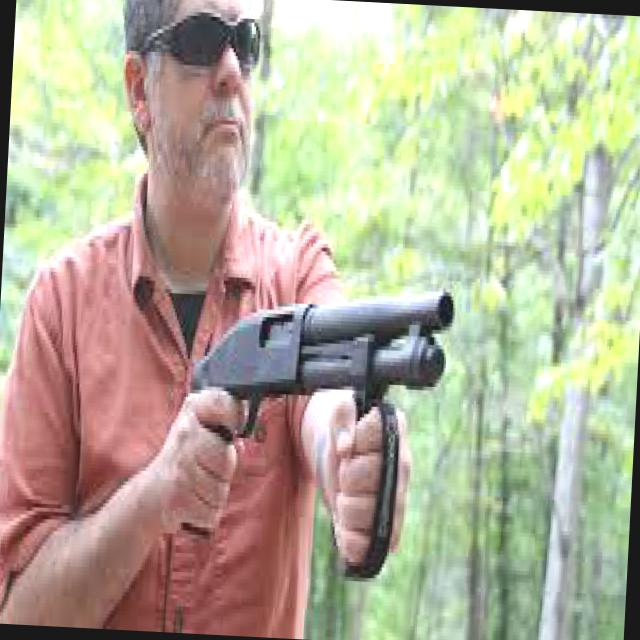long weapon: (186, 276, 463, 424)
